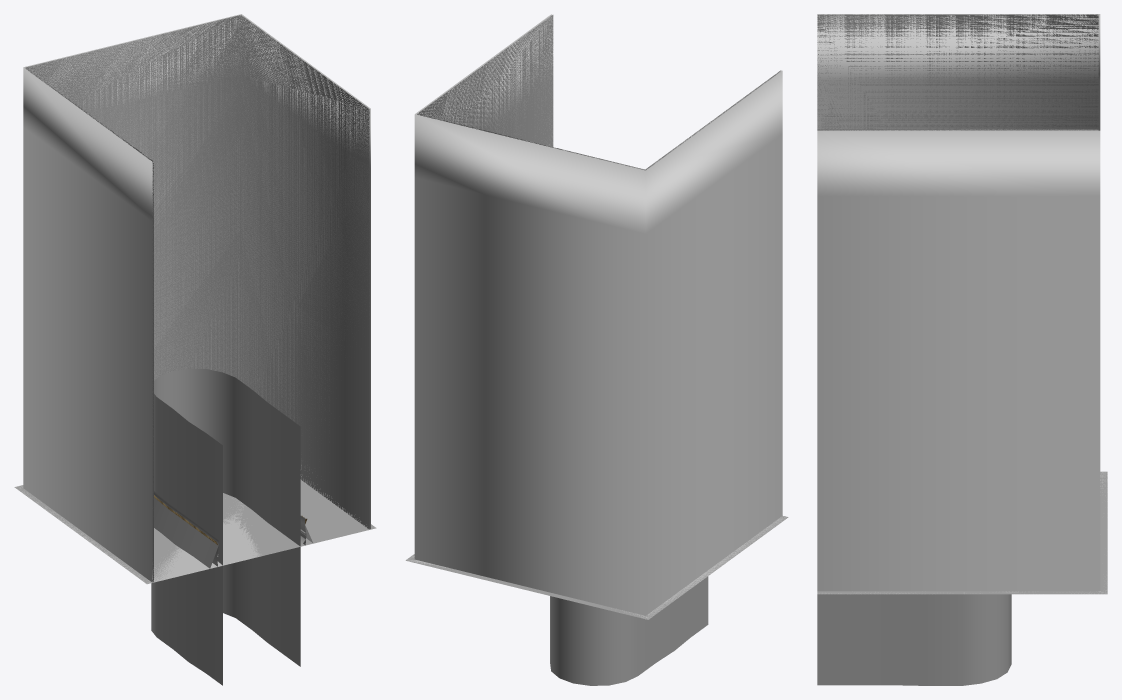
The model's file is roadstop1.fbx.
3 renders of one model, left to right at view 1: azimuth 30°, elevation 25°; view 2: azimuth 150°, elevation 25°; view 3: azimuth 270°, elevation 25°, orthographic. The views are drawn at different scales.
Visible parts, largest first — view 1: col_o, mdl_LOD0, col_w, mdl2_LOD; view 2: mdl_LOD0, mdl2_LOD, col_o, col_w; view 3: mdl_LOD0, mdl2_LOD, col_o, col_w.
Part boxes in pixels (left/top/right/bottom): col_o: left=14, top=15, right=376, bottom=583; mdl_LOD0: left=15, top=75, right=374, bottom=583; col_w: left=151, top=368, right=300, bottom=685; mdl2_LOD: left=23, top=14, right=370, bottom=544; mdl_LOD0: left=407, top=81, right=786, bottom=619; mdl2_LOD: left=414, top=14, right=782, bottom=233; col_o: left=406, top=15, right=788, bottom=619; col_w: left=550, top=576, right=708, bottom=685; mdl_LOD0: left=817, top=79, right=1107, bottom=594; mdl2_LOD: left=817, top=14, right=1100, bottom=196; col_o: left=817, top=14, right=1107, bottom=594; col_w: left=817, top=594, right=1011, bottom=685.
Size of what is drawn, in the model's own units: 1600 by 3600 by 1600.
